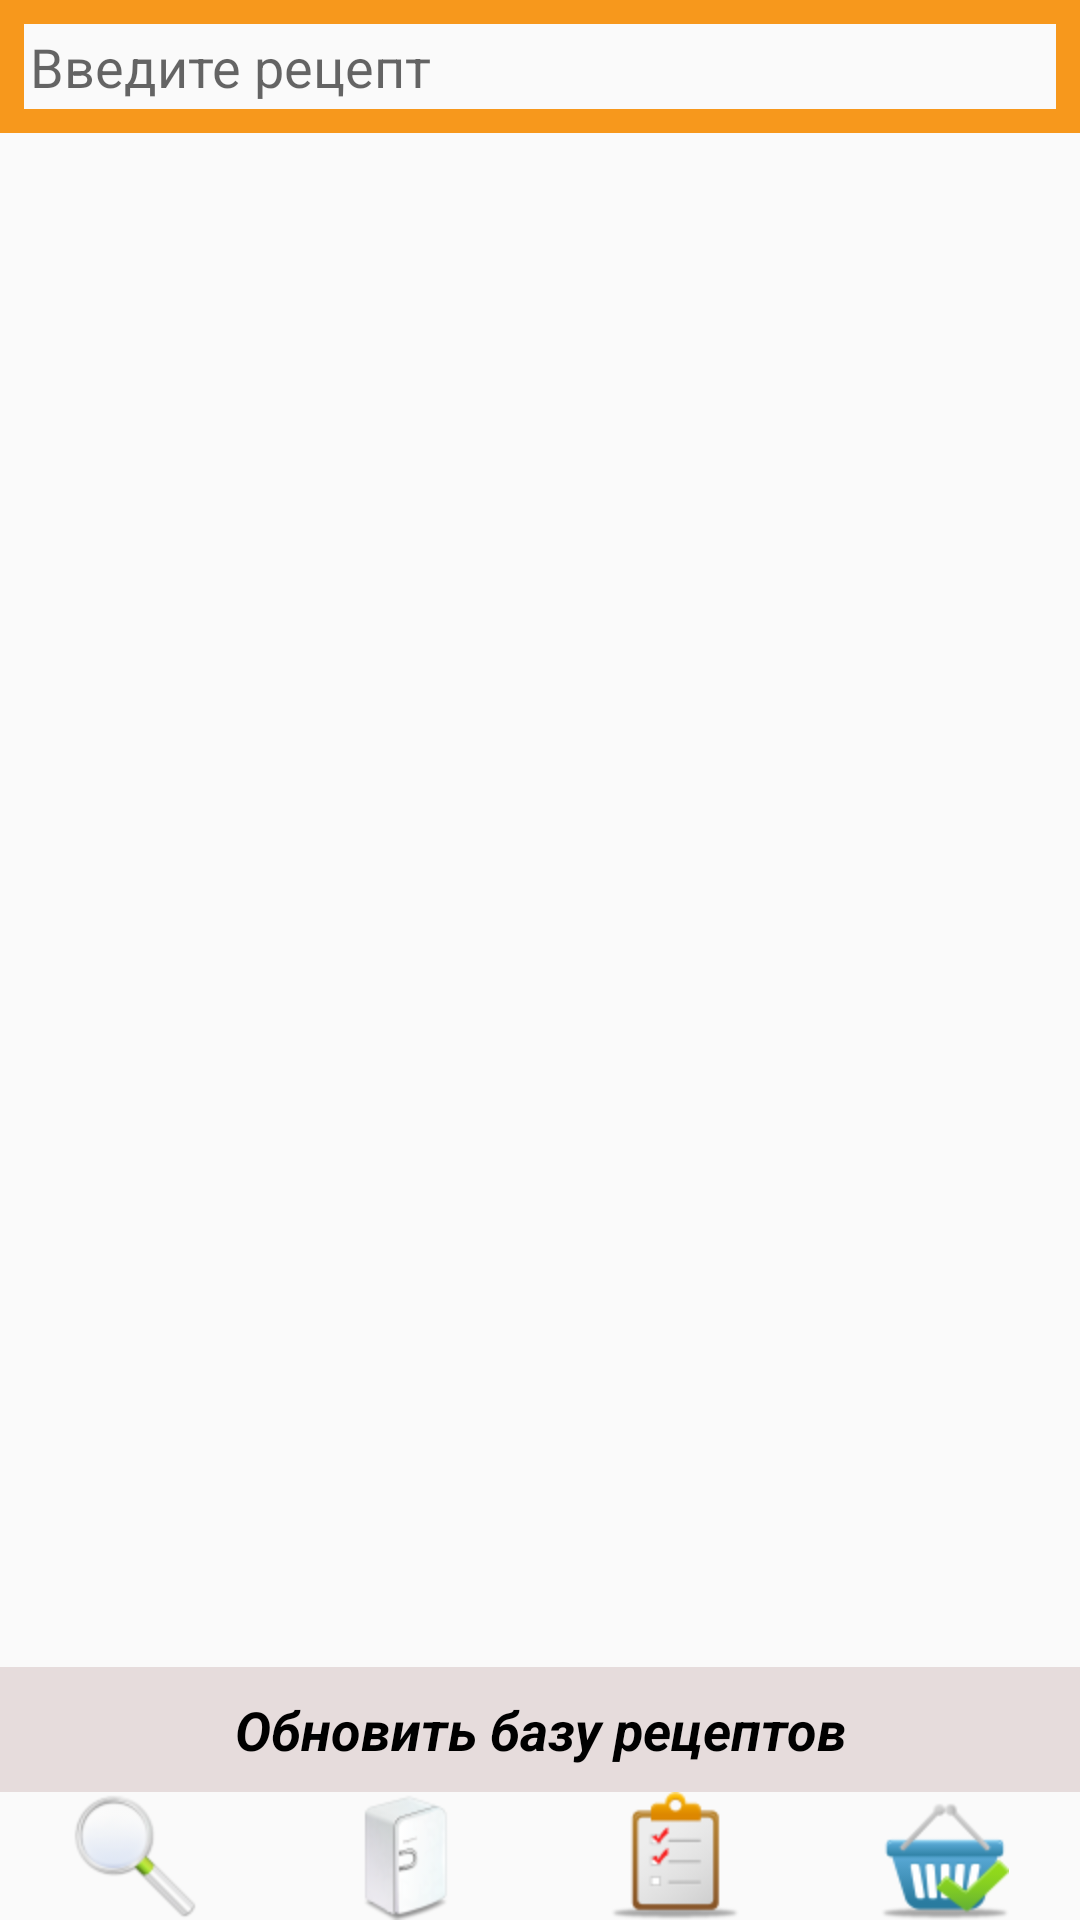

Screen size 1080×1920. Icon name, then its box in pixels as {"x1": x1, "y1": y1, "x2": x2, "y2": y2}:
basket: {"x1": 885, "y1": 1805, "x2": 1009, "y2": 1918}
fridge: {"x1": 365, "y1": 1805, "x2": 444, "y2": 1920}
list: {"x1": 615, "y1": 1792, "x2": 735, "y2": 1918}
search: {"x1": 75, "y1": 1797, "x2": 195, "y2": 1916}
